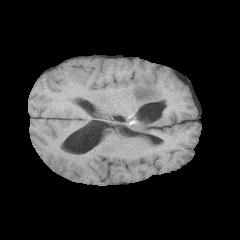glioma: (116, 75, 171, 133)
